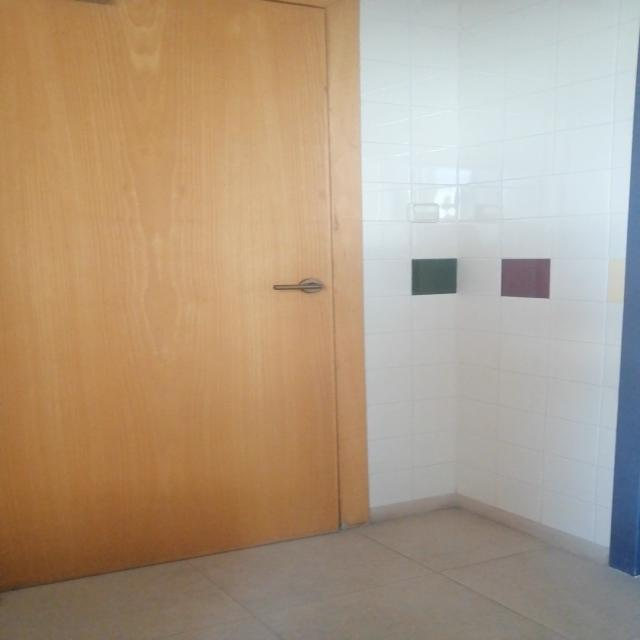door_handle: (271, 282, 328, 291)
